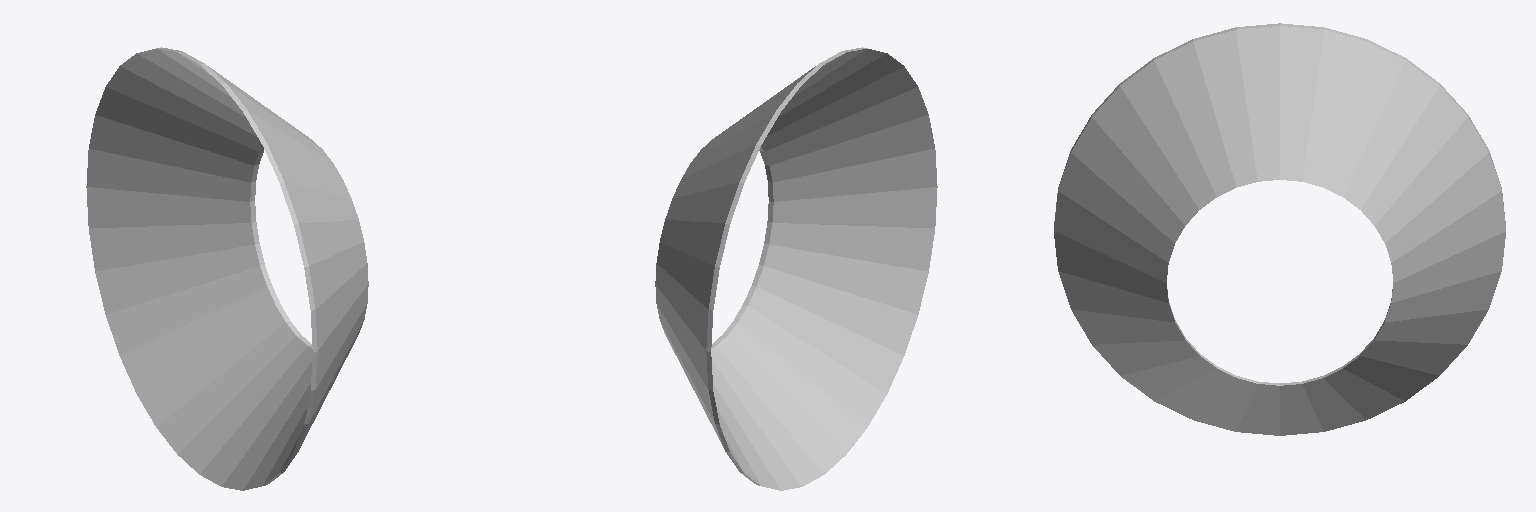
File: LeftFront.obj
3 views of the same model, side by side, from view 1: azimuth 30°, elevation 25°; view 2: azimuth 150°, elevation 25°; view 3: azimuth 270°, elevation 25° (orthographic).
Parts seen in each view (by area): view 1: Left; view 2: Left; view 3: Left.
Part boxes in pixels (left/top/right/bottom): Left: left=86, top=47, right=368, bottom=490; Left: left=655, top=47, right=937, bottom=490; Left: left=1054, top=23, right=1505, bottom=435.
Bounding box in the file's own units: 0.019 × 0.066 × 0.066.